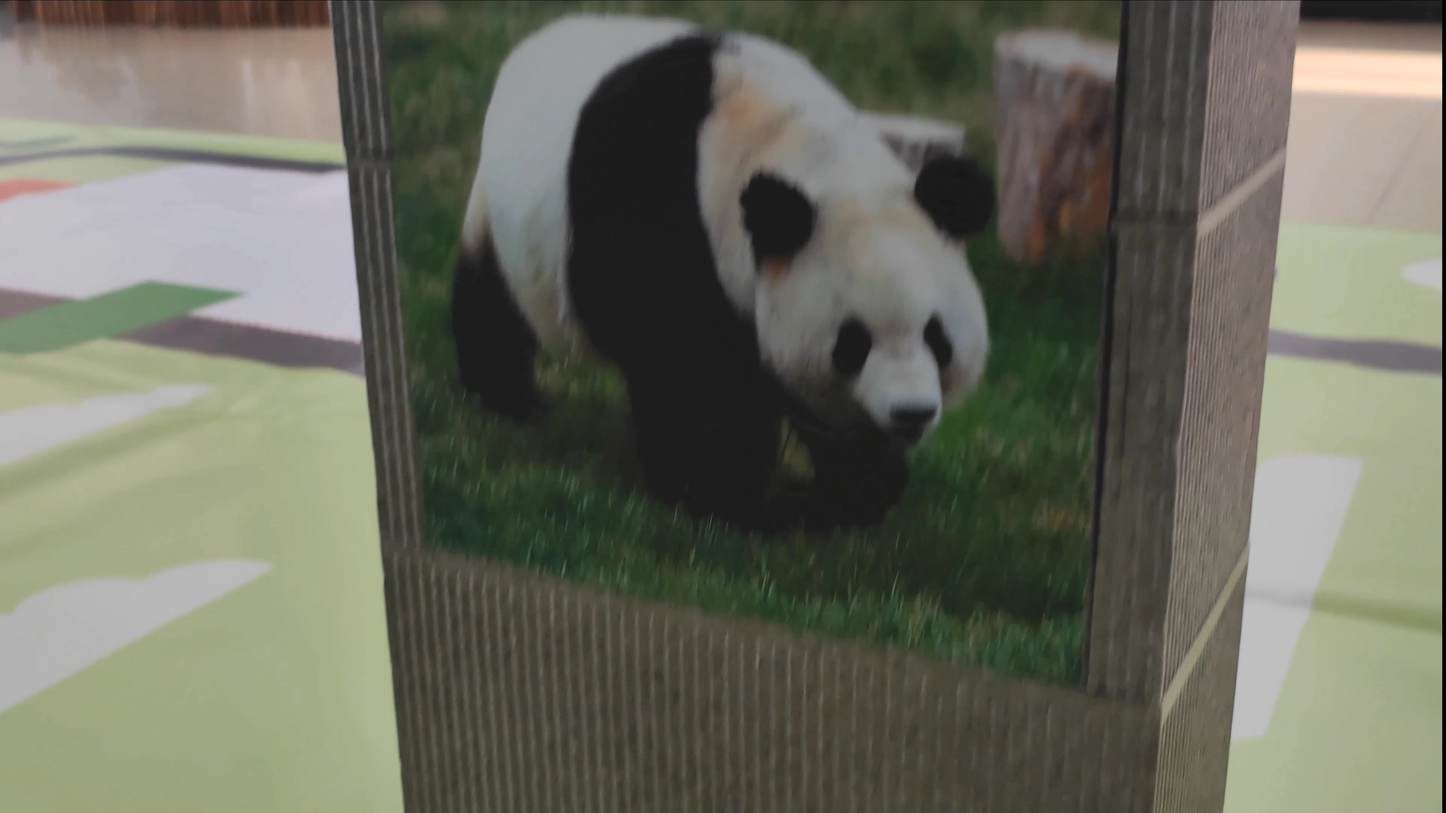panda: (416, 12, 1022, 547)
